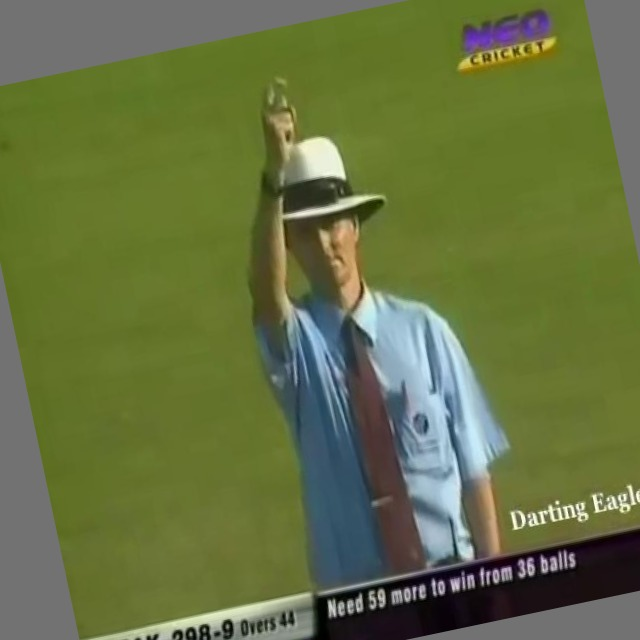Out: (192, 37, 535, 598)
